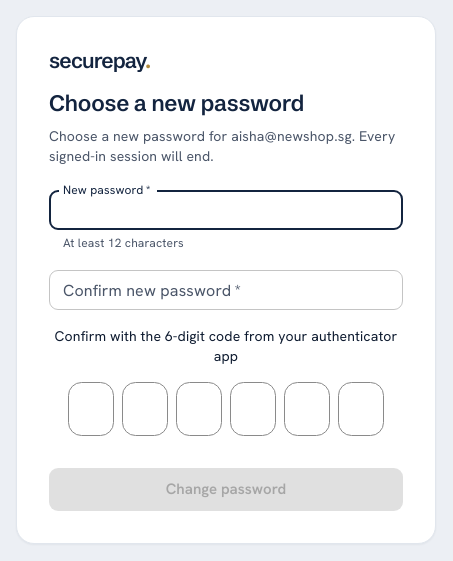
Test: account pages › resets the password with the authenticator code
Expected: the text "Choose a new password for aisha@newshop.sg" is shown, [49,126,403,166]
Type "a brand new passphrase" into the password field labelled "New password *" at (226, 210), box [49,190,403,230]
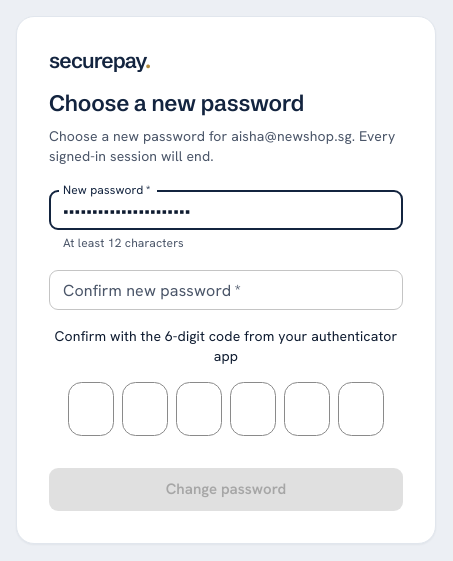
Type "a brand new passphrase" into the password field labelled "Confirm new password *" at (226, 290), box [49,270,403,310]
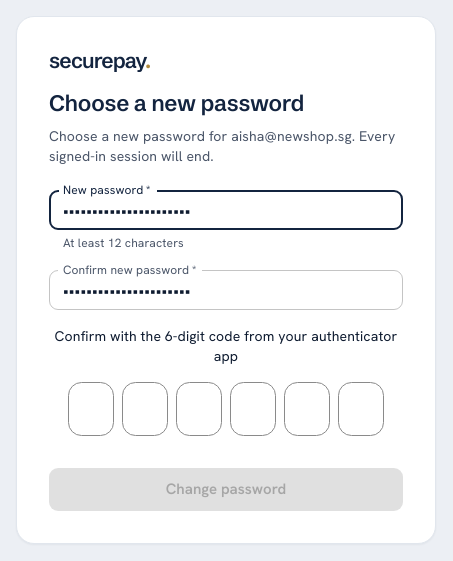
Type "123456" into the field named "Digit 1" at (91, 409), box [68,382,114,436]
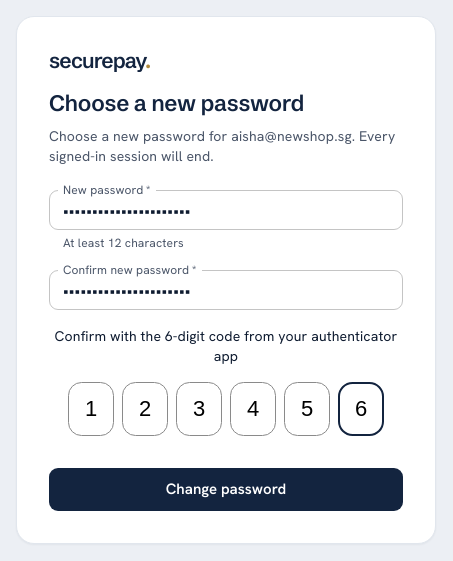
Click the button "Change password" at (226, 489), box [49,468,403,511]
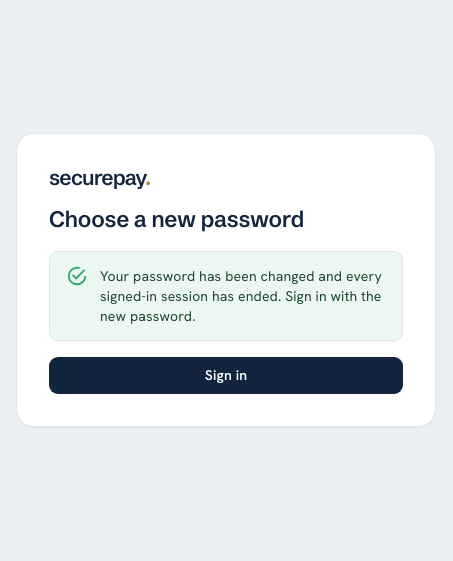
Expected: the message shows "every signed-in session has ended", [100,267,382,325]
